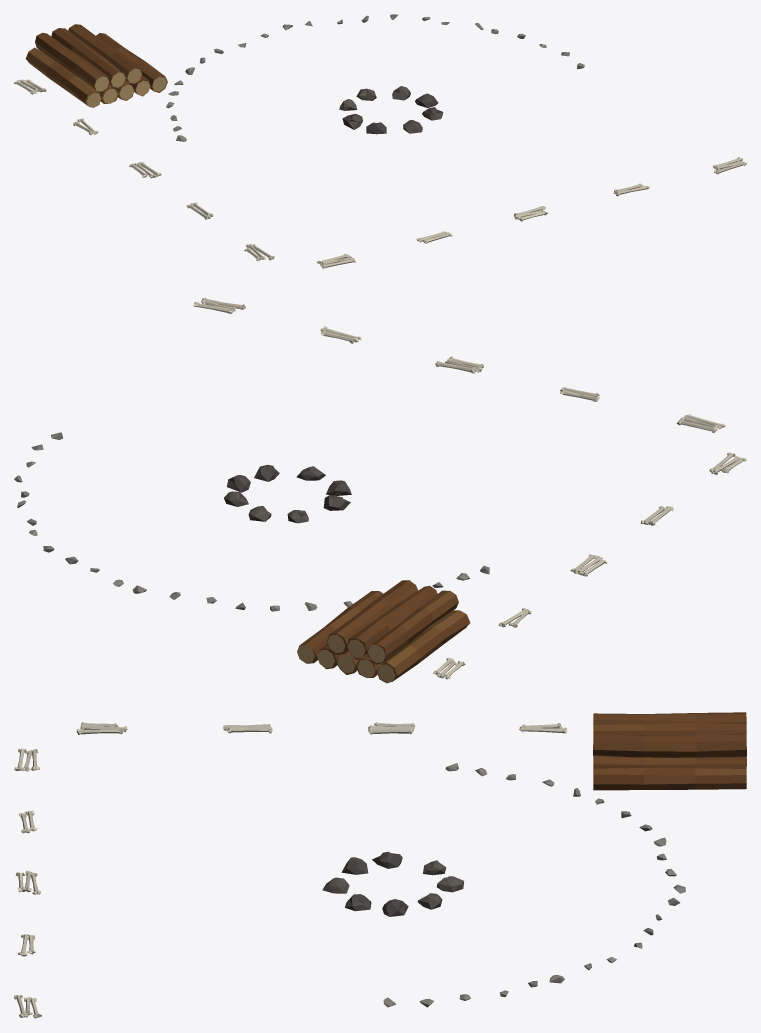
File: feast_ground_2_cerchio.glb
3 renders of one model, top to bottom at view 1: azimuth 30°, elevation 25°; view 2: azimuth 150°, elevation 25°; view 3: azimuth 270°, elevation 25°, orthographic. The views are drawn at different scales.
Visible parts, largest first — view 1: feast_ground_2_cerchio; view 2: feast_ground_2_cerchio; view 3: feast_ground_2_cerchio.
Boxes of the visible parts, bbox=[...] form: feast_ground_2_cerchio: bbox=[14, 14, 746, 268]; feast_ground_2_cerchio: bbox=[14, 297, 746, 683]; feast_ground_2_cerchio: bbox=[14, 712, 746, 1018].
Size of the model in its own units: 16.4 by 1.12 by 17.24.
